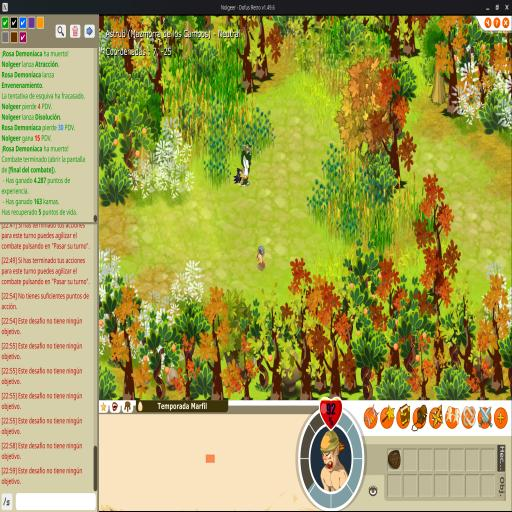Personaje: (256, 246, 266, 272)
